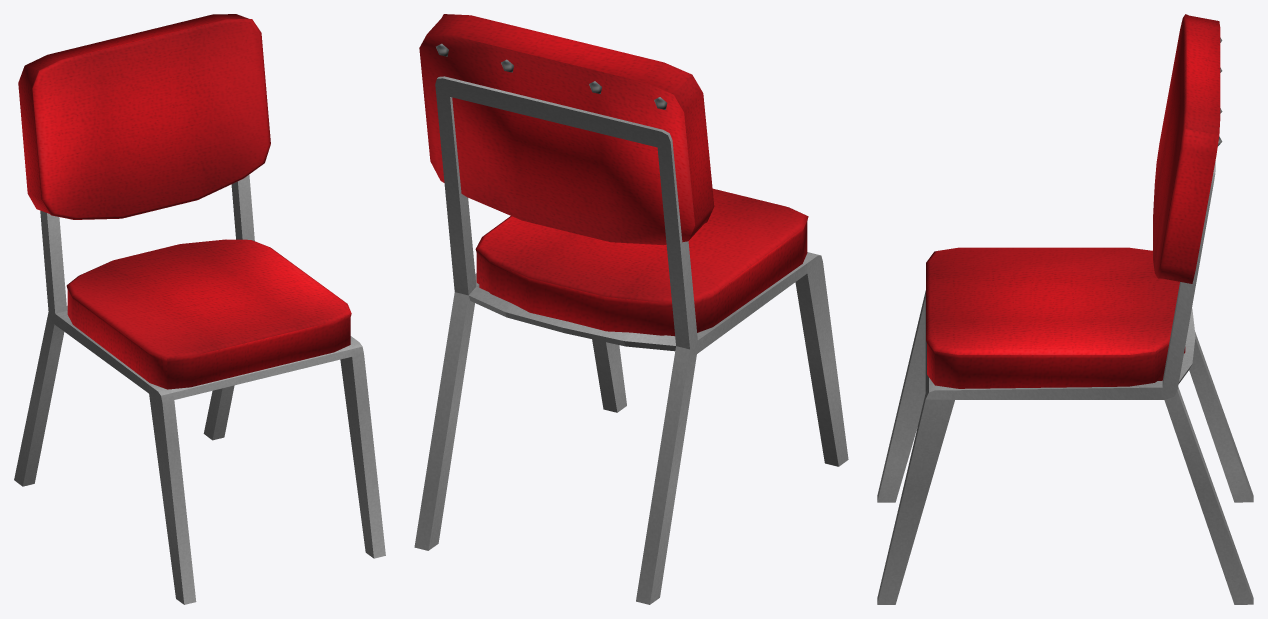
File: Dining_Chair_01.FBX
The picture shows the model from 3 angles, left to right: view 1: azimuth 30°, elevation 25°; view 2: azimuth 150°, elevation 25°; view 3: azimuth 270°, elevation 25°; orthographic projection. The views are drawn at different scales.
Visible parts, largest first — view 1: Dining_Chair; view 2: Dining_Chair; view 3: Dining_Chair.
Part boxes in pixels (x1,y1,x2,y2): Dining_Chair: (14, 14, 385, 604); Dining_Chair: (414, 14, 848, 604); Dining_Chair: (877, 14, 1253, 604).
Size of the model in its own units: 102 by 186 by 131.
